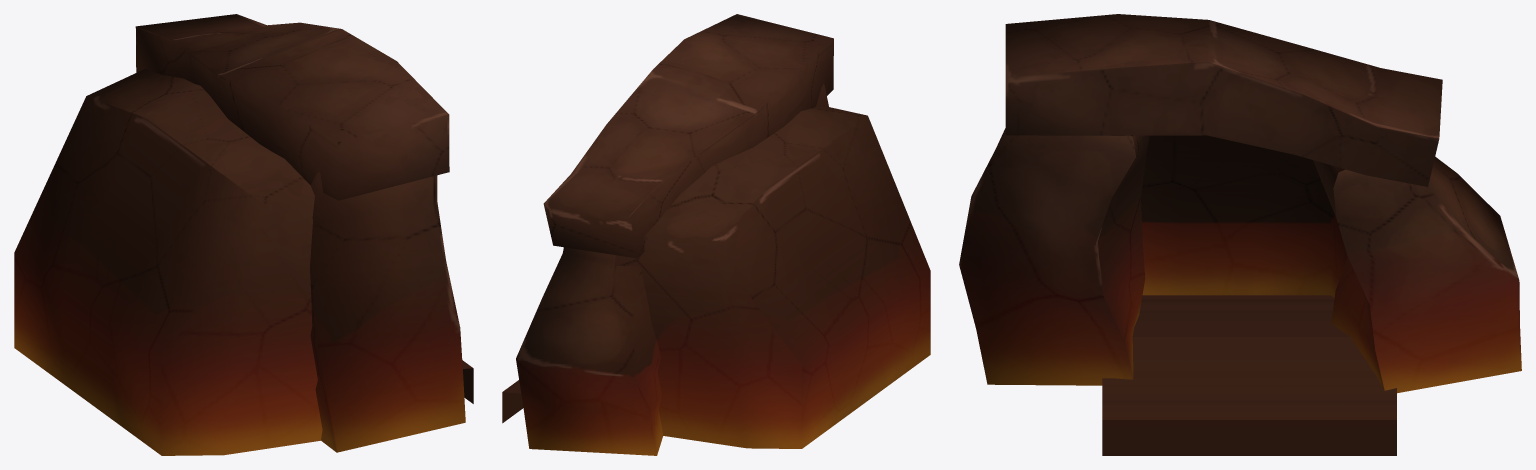
Rendered from exit_volcano.glb.
3 views of the same model, side by side, from view 1: azimuth 30°, elevation 25°; view 2: azimuth 150°, elevation 25°; view 3: azimuth 270°, elevation 25° (orthographic). The views are drawn at different scales.
Visible parts, largest first — view 1: Volcano_Exit_Mesh; view 2: Volcano_Exit_Mesh; view 3: Volcano_Exit_Mesh.
Boxes of the visible parts, x1,y1,x2,y2 form: Volcano_Exit_Mesh: (14,14,473,455); Volcano_Exit_Mesh: (502,14,930,455); Volcano_Exit_Mesh: (959,14,1521,455).
Size of the model in its own units: 2.56 by 2.66 by 3.82.
1 material, 1 textured.
